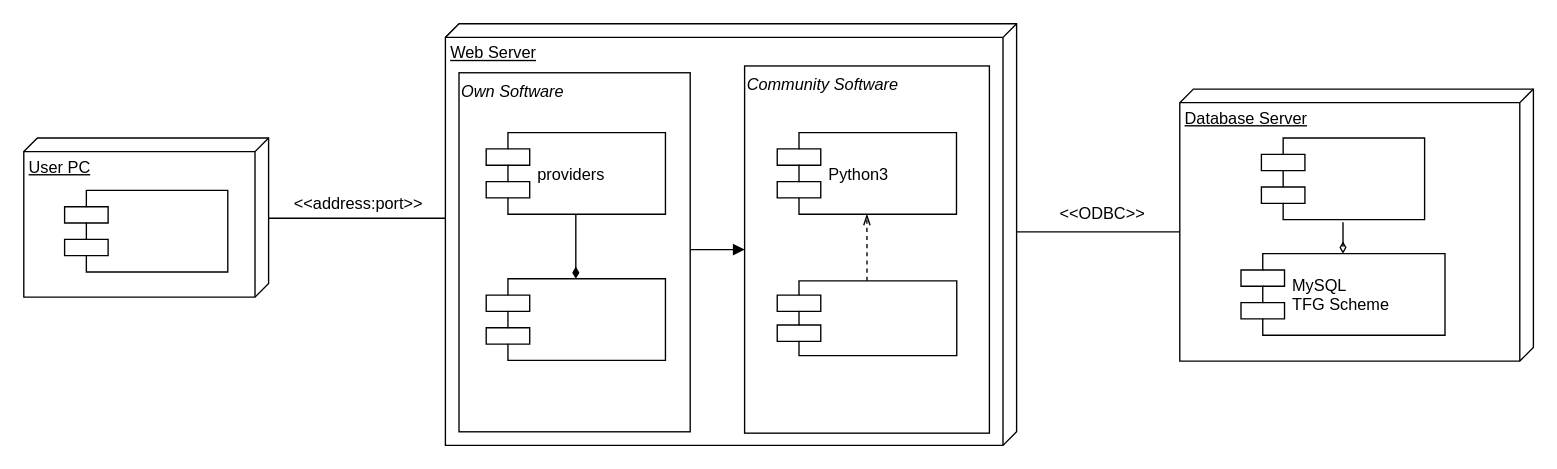
This 1557x469 diagram has some shape labels left out. Here are the shapes that lost their labels. From the top down, the centre of each, then its label:
At (x=1342, y=178): "MySQL Engine".
At (x=145, y=230): "Web Browser".
At (x=575, y=318): "TFG Django project".
At (x=866, y=317): "Django".
